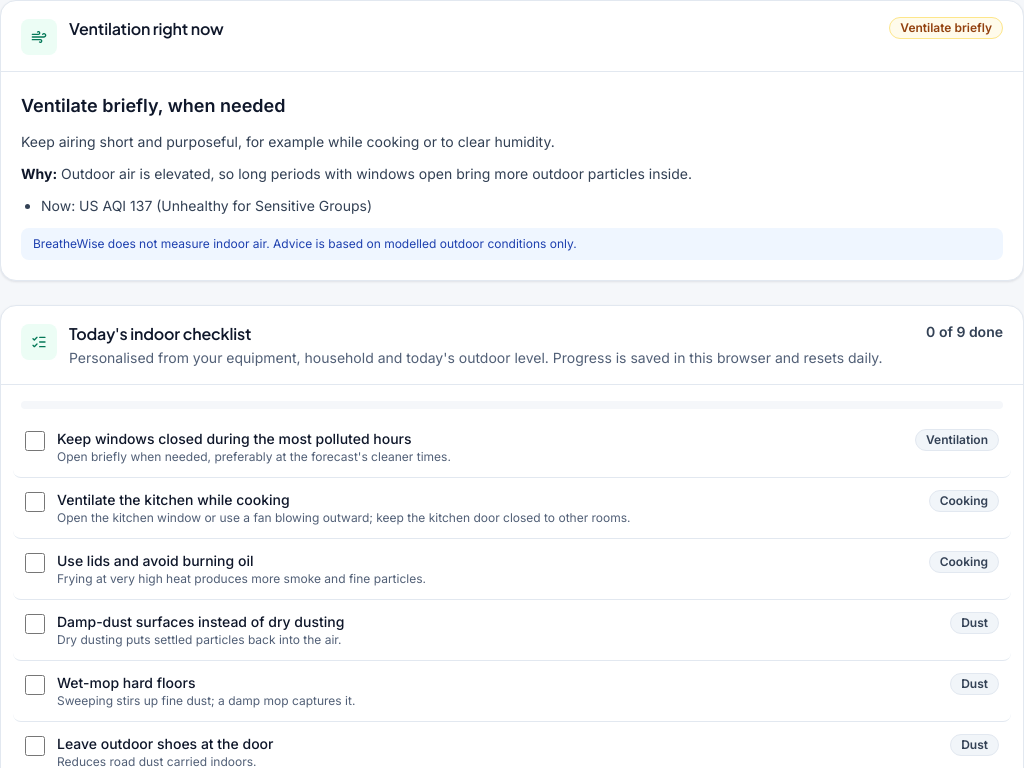
it: IndoorView checklist › persists checked items locally
Later steps or results of the test are not shown.
Click the checkbox labelled "Damp-dust surfaces" at (35, 624), box [25,614,45,634]
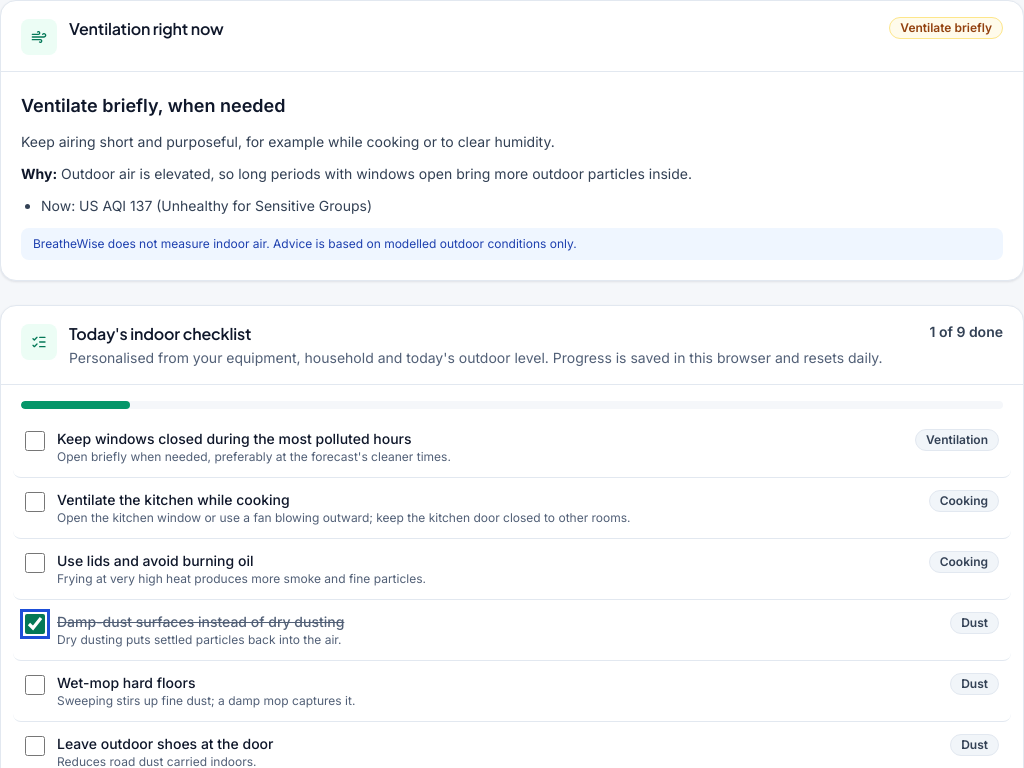
Expected: the checkbox labelled "Damp-dust surfaces" is checked, [25,614,45,634]
Expected: the text "1 of 9 done" is shown, [929,322,1003,342]
